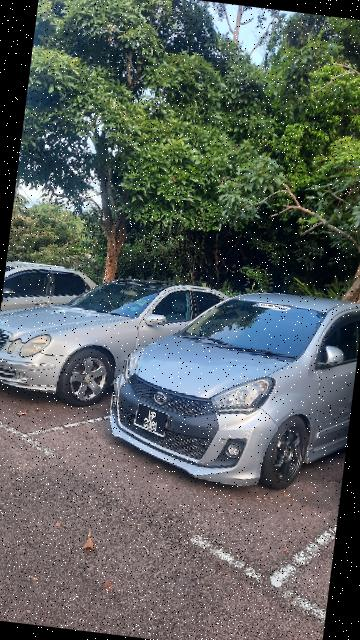License_Plate: (132, 404, 177, 442)
car: (98, 273, 360, 503)
